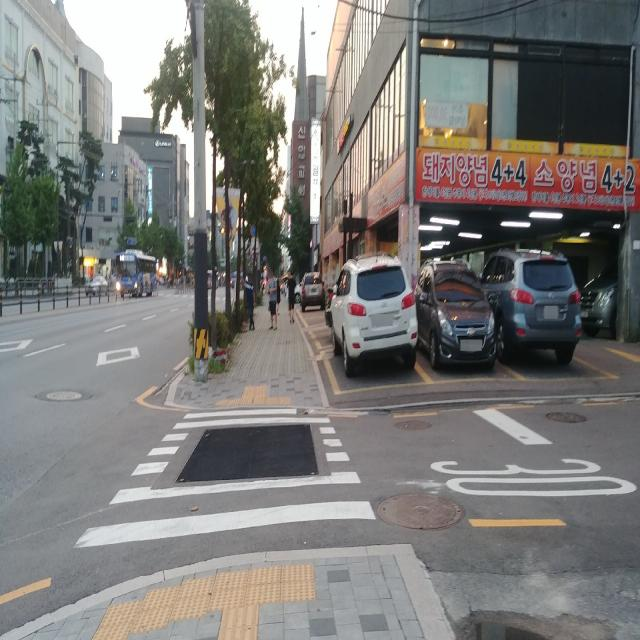횡단보도: (74, 409, 376, 548)
